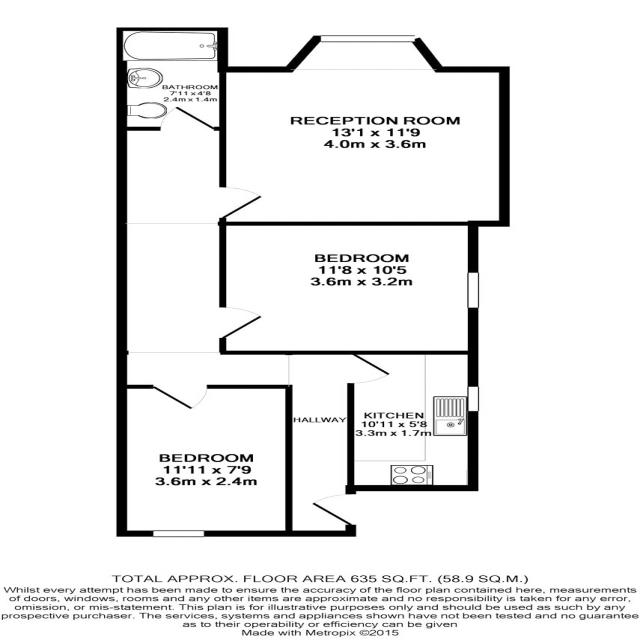DOOR: (153, 103, 225, 132), (217, 184, 269, 221), (308, 491, 358, 528), (345, 351, 395, 385), (147, 385, 211, 411), (220, 305, 266, 340)
ROOM: (218, 36, 510, 226), (218, 221, 480, 355), (115, 384, 292, 536), (346, 350, 479, 492)
WINDOW: (305, 32, 424, 48), (148, 528, 207, 539), (465, 271, 481, 310), (465, 384, 482, 413)
